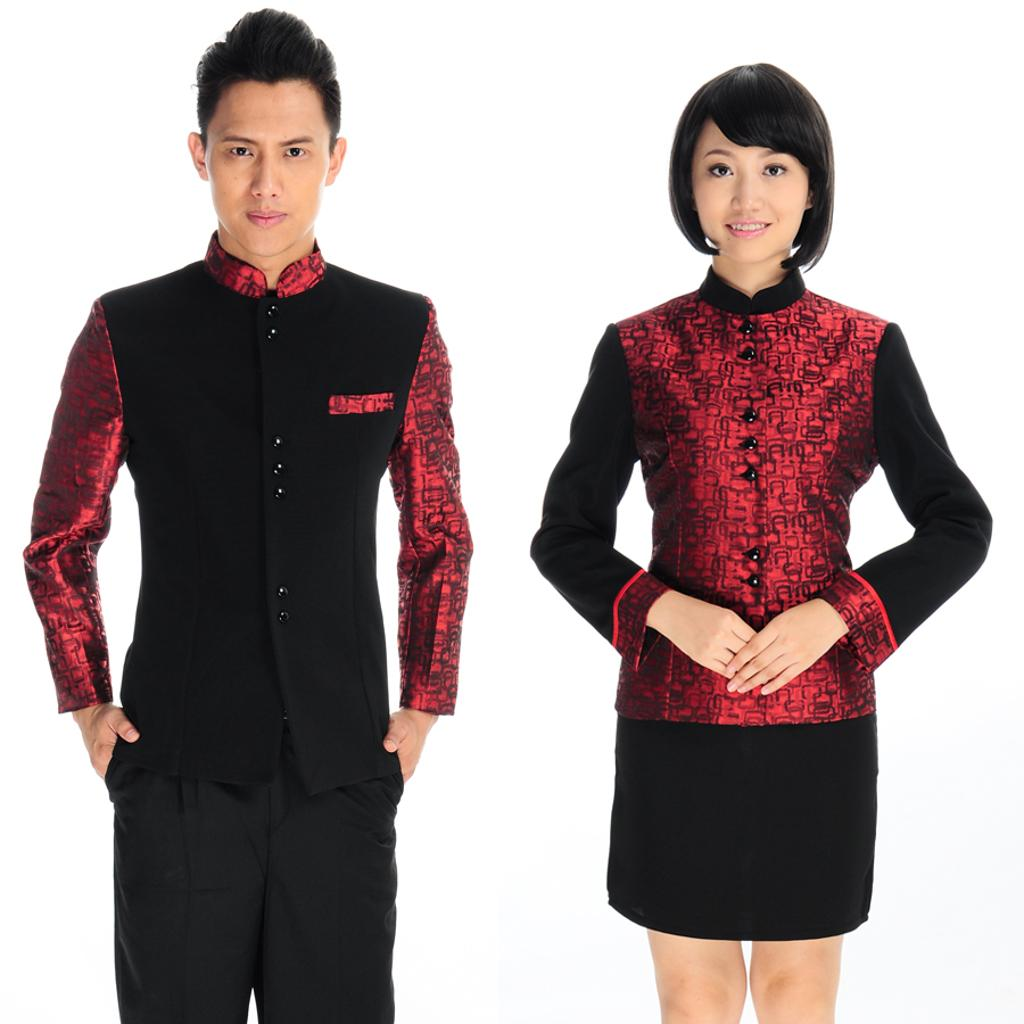face: (210, 76, 330, 254), (692, 112, 806, 262)
